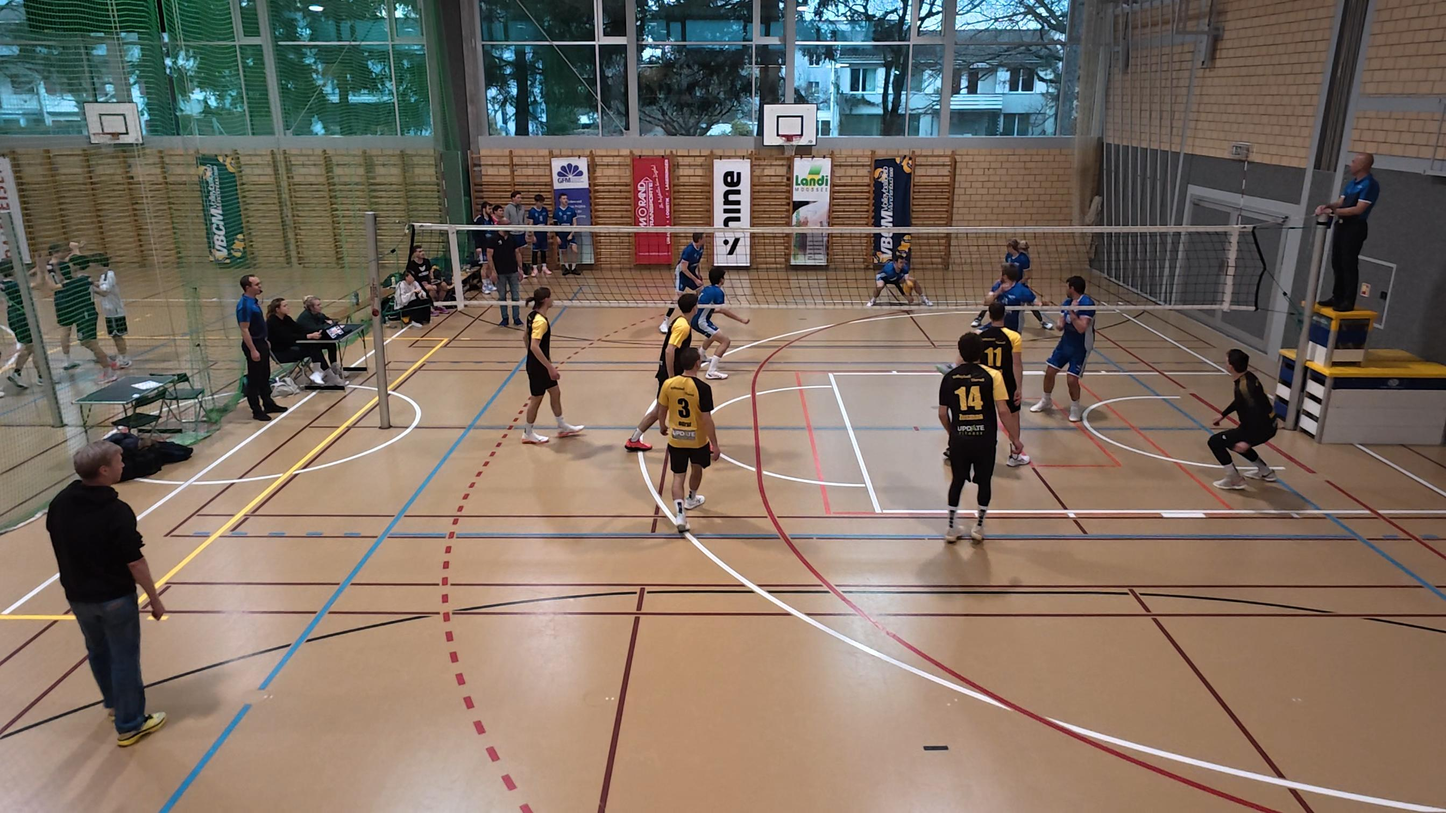Dig: (862, 245, 935, 316)
Player: (625, 289, 708, 452), (936, 340, 997, 543), (658, 351, 719, 531), (966, 302, 1031, 469), (1207, 348, 1281, 489), (1029, 275, 1098, 422), (522, 291, 584, 444), (693, 272, 748, 380), (674, 233, 706, 301)
ball: (898, 272, 921, 295)
